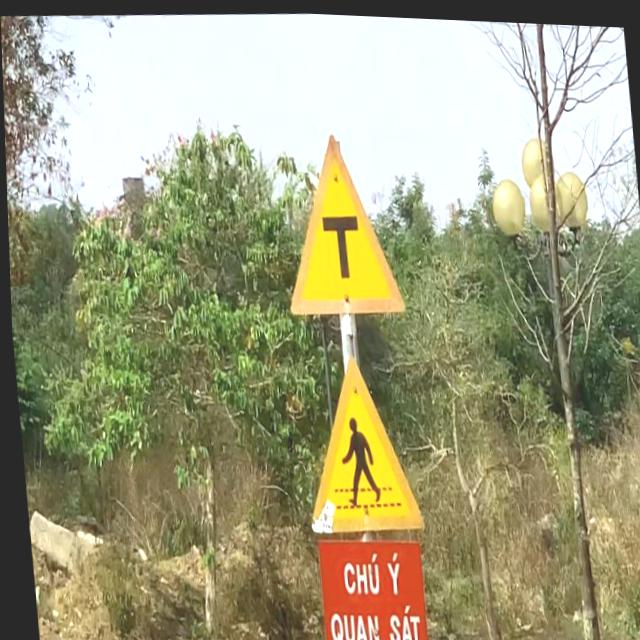Duong giao nhau cung cap: (269, 116, 410, 328)
Nguoi di bo cat ngang: (288, 342, 426, 544)
